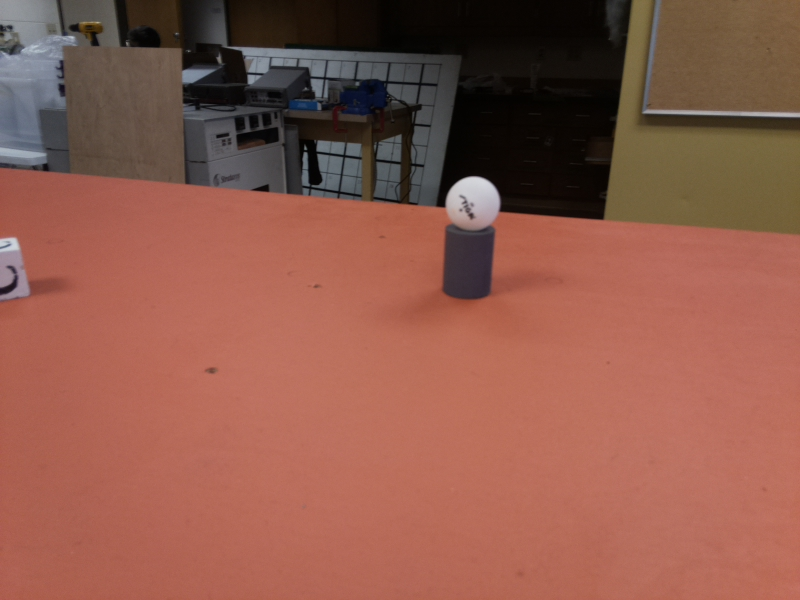obstacle: (433, 177, 496, 302)
